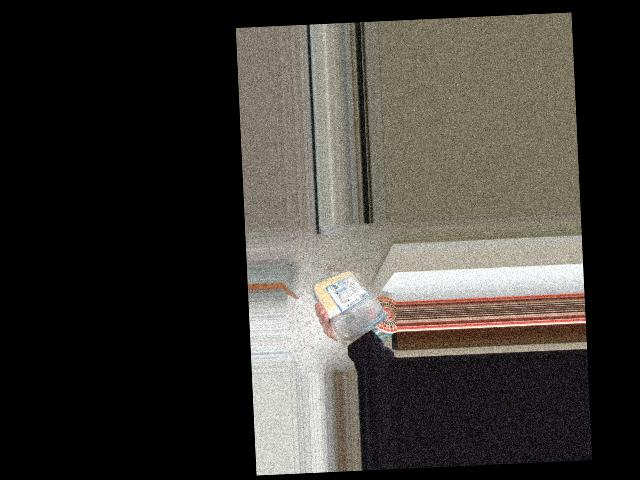cheese: (321, 266, 385, 337)
